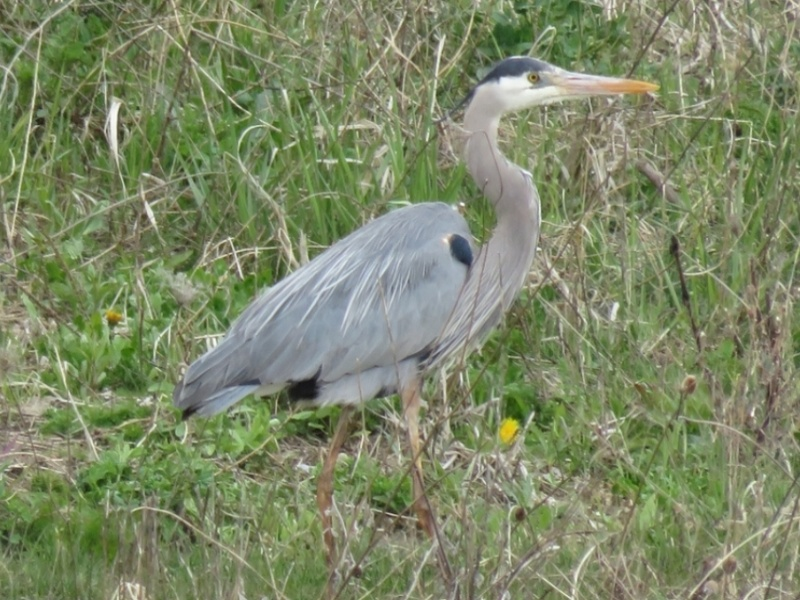heron: (169, 53, 664, 468)
